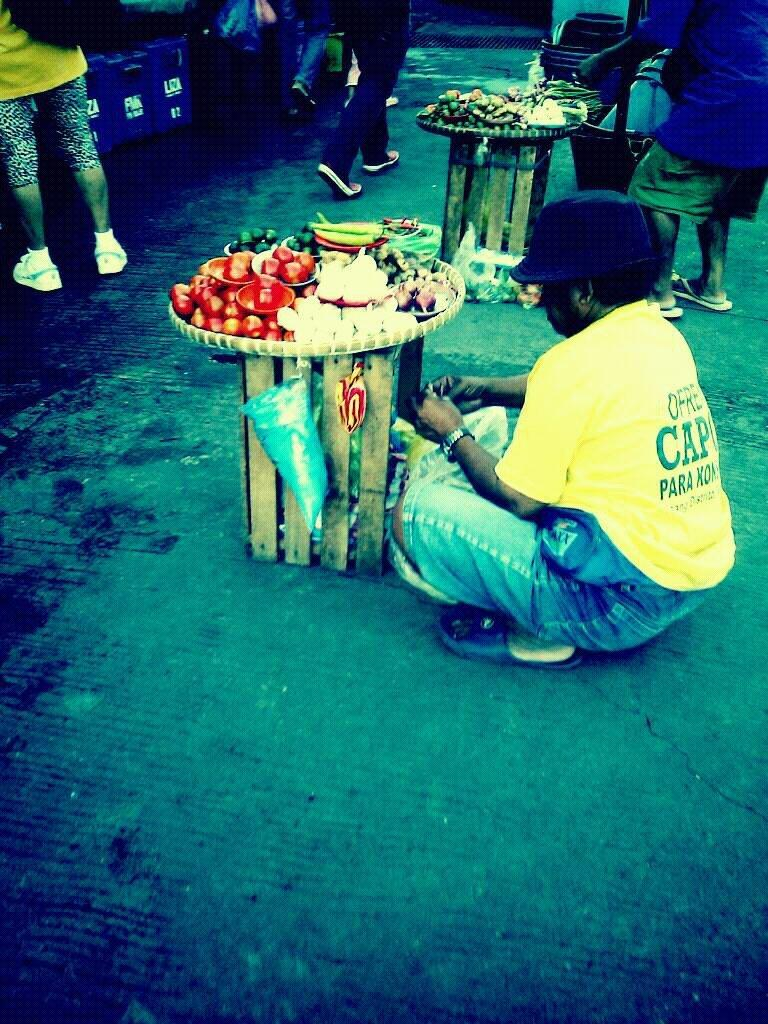Hat: (508, 191, 674, 291)
